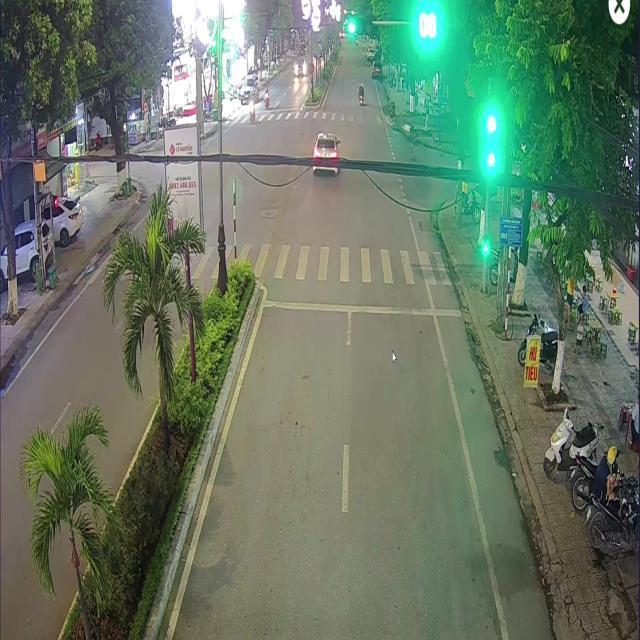green_light: (484, 106, 500, 177), (345, 15, 374, 38)
stop_line: (263, 298, 460, 316)
